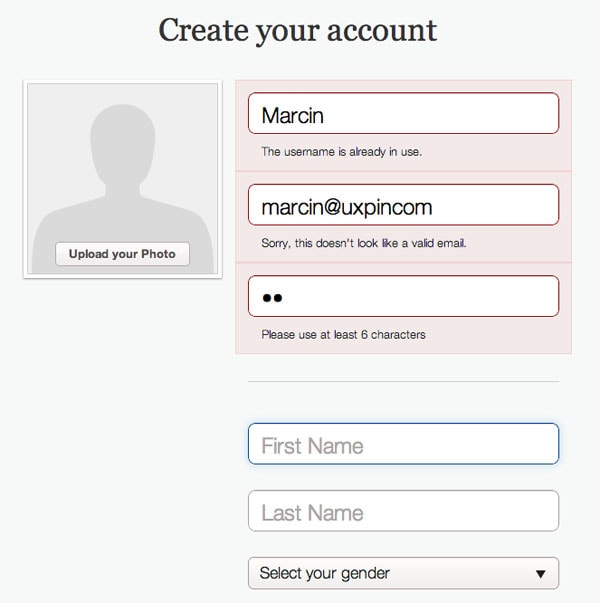error_field: (246, 183, 560, 228), (248, 91, 560, 136), (247, 274, 560, 317)
